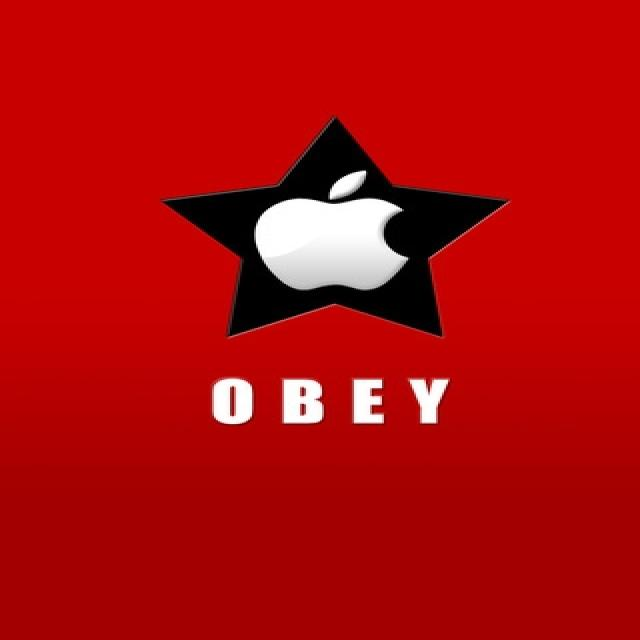apple: (239, 168, 425, 300)
